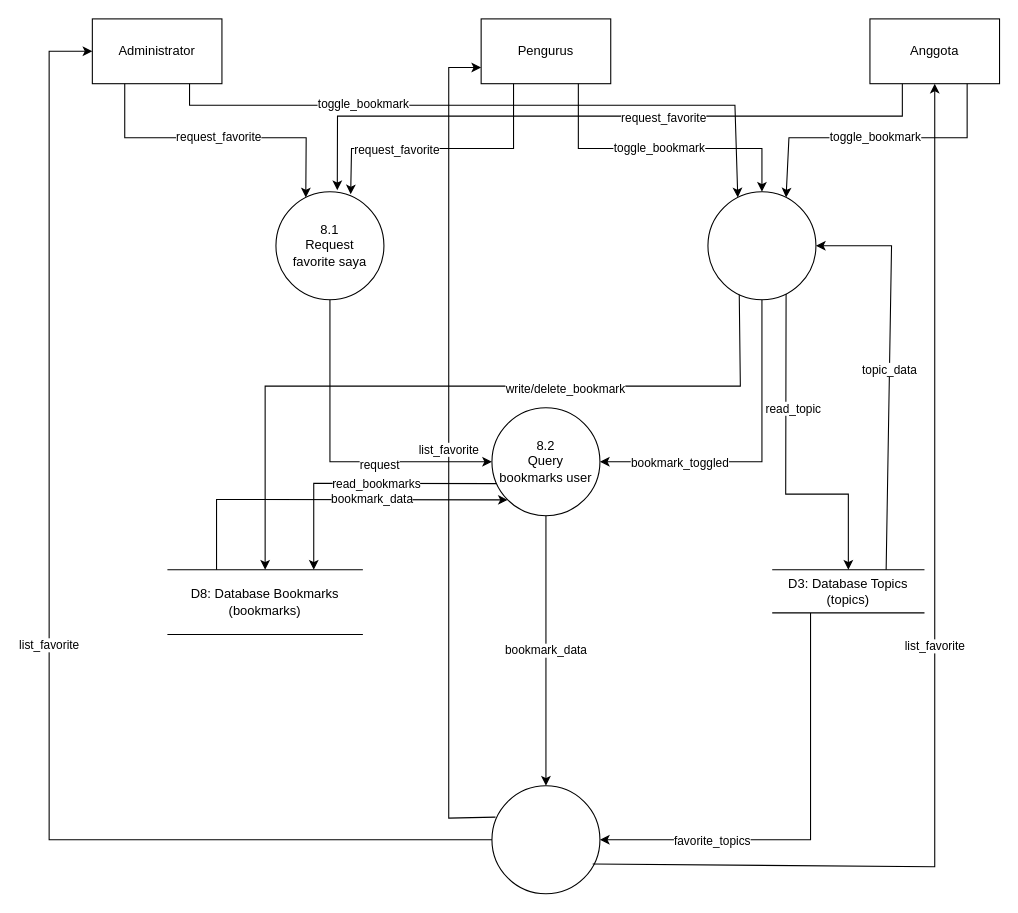
Some shapes in this 1018 by 913 pixel diagram are drawn without their labels. The centre of each missing label's shape, as x and y in pixels:
"8.3 Toggle bookmark topik" goes at point 761,245.
"8.4 Tampilkan daftar favorite" goes at point 545,839.
